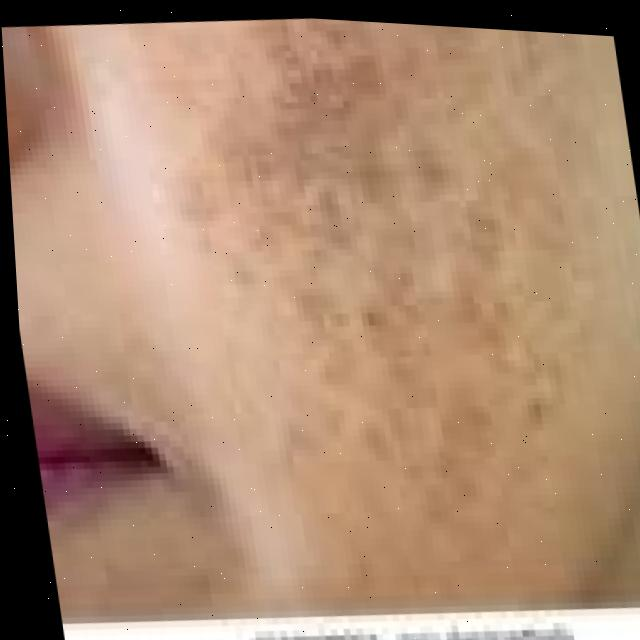Melasma: (192, 11, 536, 402)
